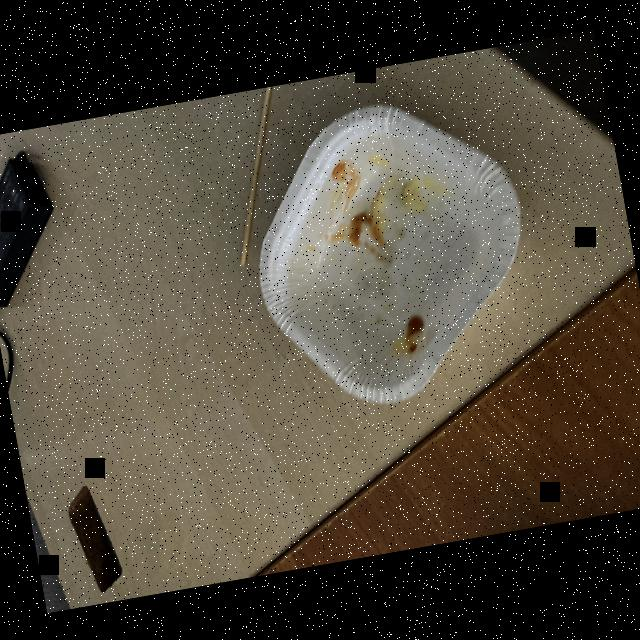cardboard_bowl: (226, 77, 554, 425)
stick: (204, 85, 302, 270)
